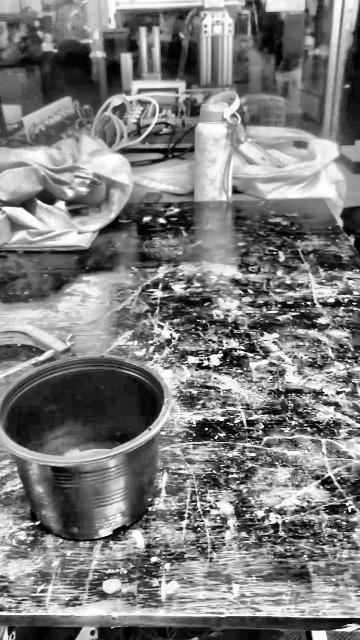pot: (0, 356, 169, 541)
